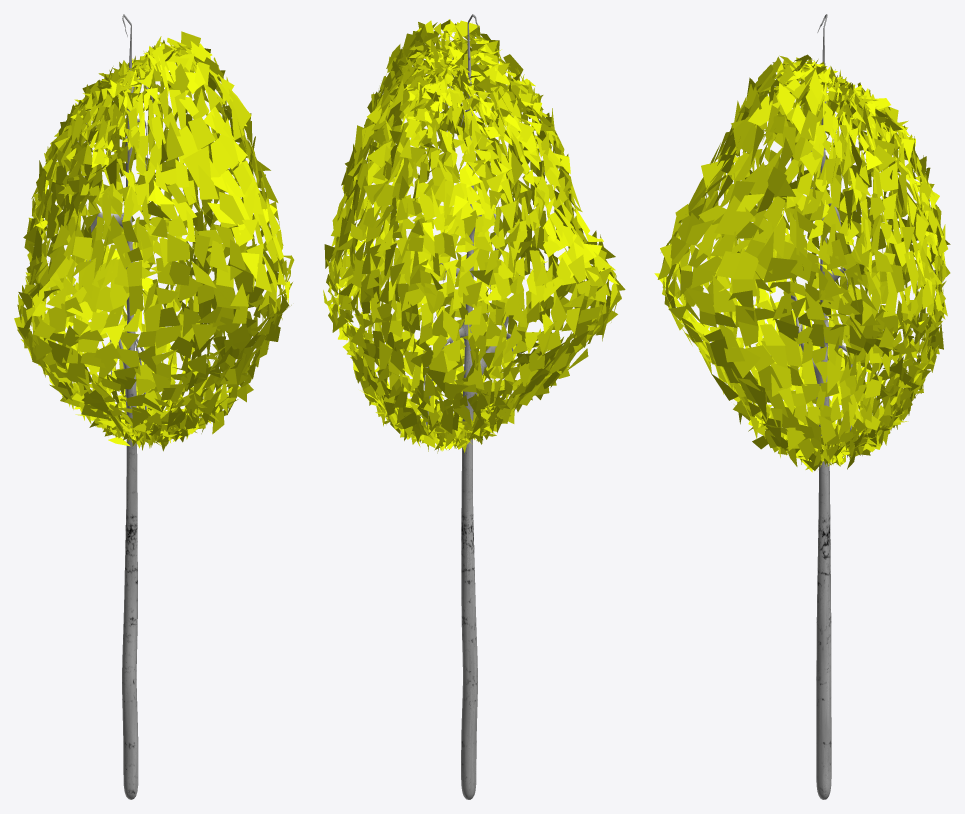
Rendered from Leaves32.001.fbx.
The picture shows the model from 3 angles, left to right: view 1: azimuth 30°, elevation 25°; view 2: azimuth 150°, elevation 25°; view 3: azimuth 270°, elevation 25°; orthographic projection.
Parts seen in each view (by area): view 1: Leaves32.001; view 2: Leaves32.001; view 3: Leaves32.001.
Boxes of the visible parts, x1,y1,x2,y2 form: Leaves32.001: [14, 14, 294, 799]; Leaves32.001: [323, 14, 625, 799]; Leaves32.001: [654, 14, 950, 799].
Bounding box in the file's own units: 859 × 2612 × 896.
Materials: 2 (1 with a texture image).
